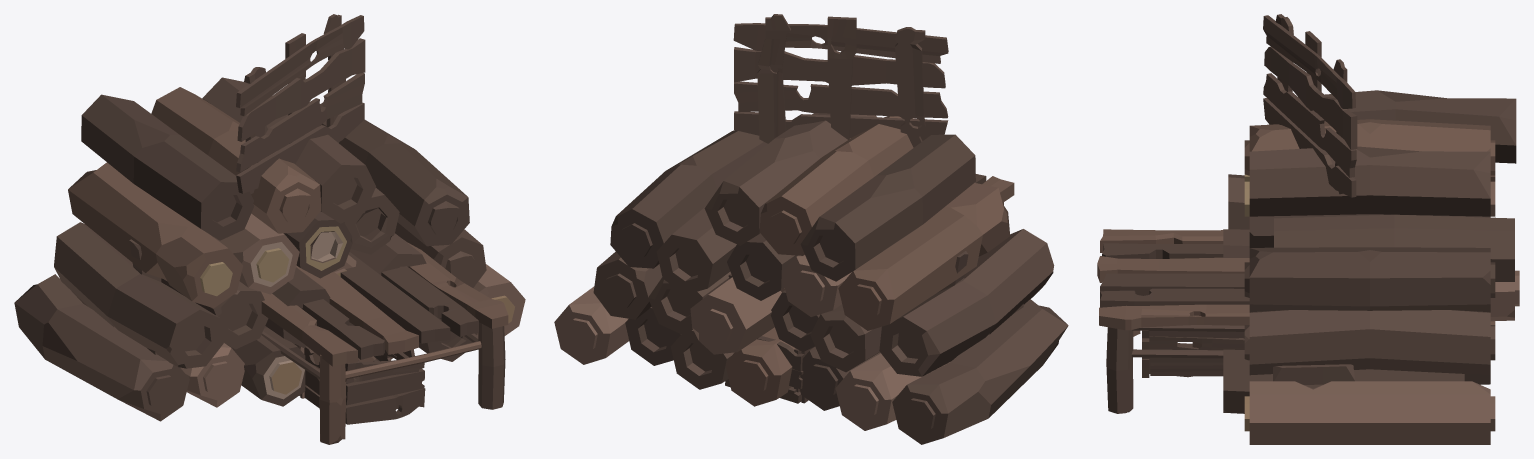
File: Set2.fbx
3 renders of one model, left to right at view 1: azimuth 30°, elevation 25°; view 2: azimuth 150°, elevation 25°; view 3: azimuth 270°, elevation 25°, orthographic.
Visible parts, largest first — view 1: Troncos, Mesa, Cartel, Caja; view 2: Troncos, Cartel, Caja, Mesa; view 3: Troncos, Mesa, Cartel, Caja, Banco.
Boxes of the visible parts, x1,y1,x2,y2 form: Troncos: (14, 77, 525, 421); Mesa: (261, 240, 508, 444); Cartel: (236, 14, 365, 193); Caja: (304, 346, 425, 424); Troncos: (554, 113, 1068, 444); Cartel: (733, 14, 948, 147); Caja: (725, 336, 813, 403); Mesa: (728, 174, 1014, 292); Troncos: (1223, 90, 1519, 444); Mesa: (1097, 229, 1249, 413); Cartel: (1263, 14, 1357, 197); Caja: (1142, 330, 1244, 377); Banco: (1273, 364, 1354, 384).
Size of the model in its own units: 314 by 243 by 284.
